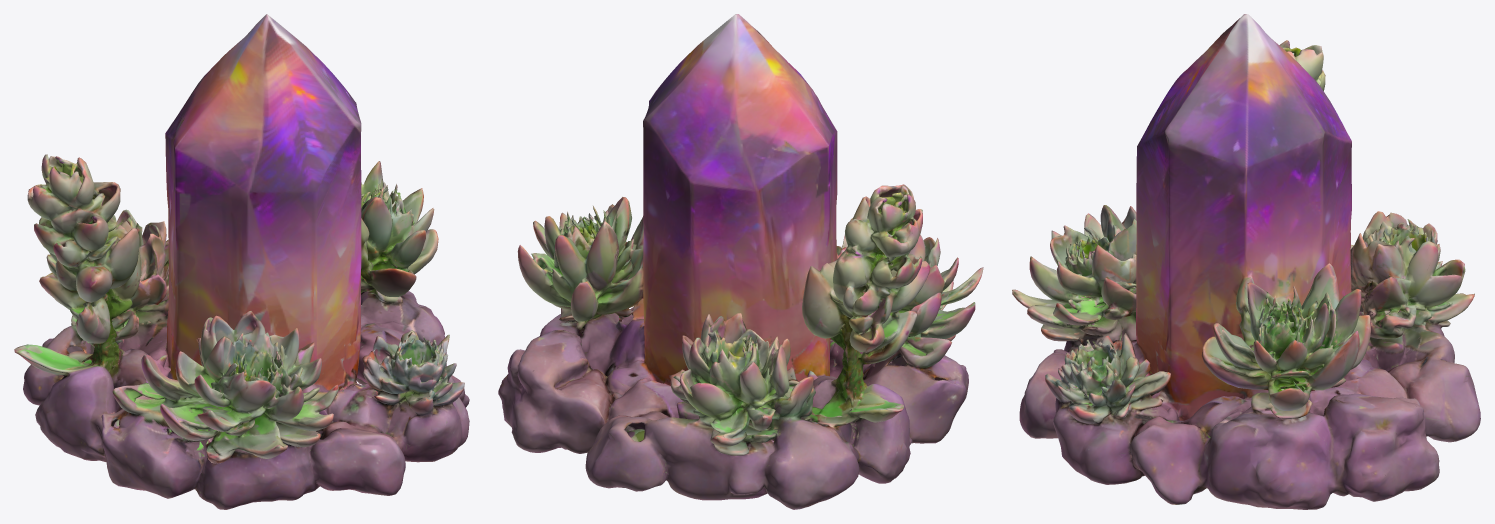
Rendered from Meshy_AI_a_large_rainbow_cryst_1016100444_texture.fbx.
3 renders of one model, left to right at view 1: azimuth 30°, elevation 25°; view 2: azimuth 150°, elevation 25°; view 3: azimuth 270°, elevation 25°, orthographic. The views are drawn at different scales.
Visible parts, largest first — view 1: Mesh_0; view 2: Mesh_0; view 3: Mesh_0.
Boxes of the visible parts, <box> form: Mesh_0: <box>14,14,469,509</box>; Mesh_0: <box>498,14,983,509</box>; Mesh_0: <box>1012,14,1480,509</box>.
Size of the model in its own units: 198 by 196 by 198.
1 material, 1 textured.
